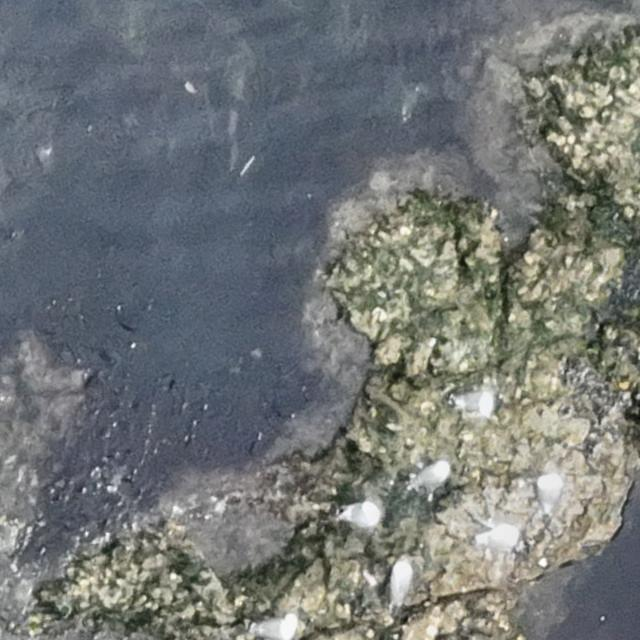umineko: (534, 475, 564, 523), (414, 460, 452, 487), (459, 390, 494, 418), (388, 561, 411, 602), (258, 615, 297, 638), (340, 503, 381, 524), (483, 526, 517, 548)
